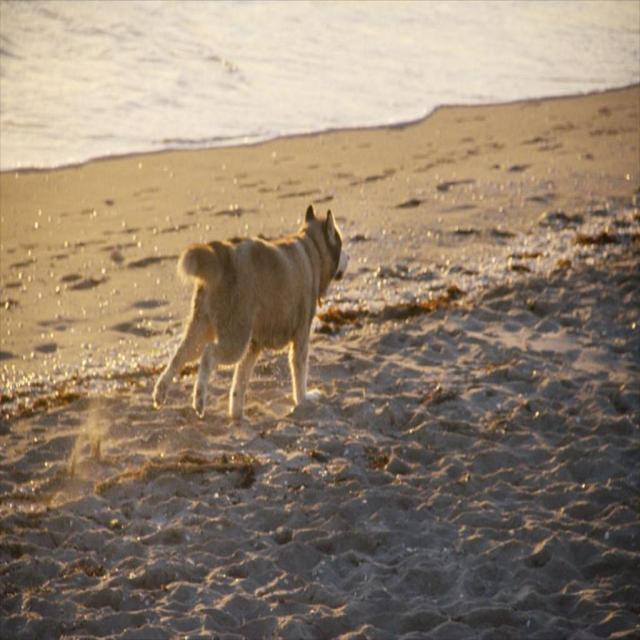Dog: (156, 195, 348, 419)
